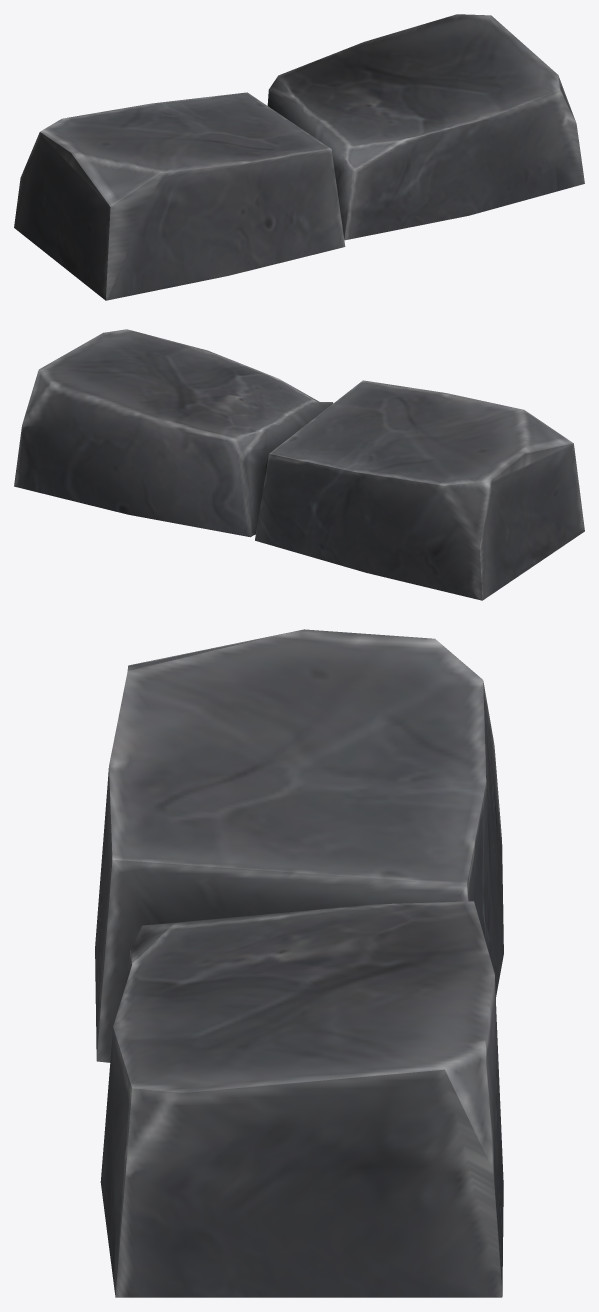
The model's file is Pavement02.FBX.
The picture shows the model from 3 angles, top to bottom: view 1: azimuth 30°, elevation 25°; view 2: azimuth 150°, elevation 25°; view 3: azimuth 270°, elevation 25°; orthographic projection. The views are drawn at different scales.
Visible parts, largest first — view 1: Pavement02; view 2: Pavement02; view 3: Pavement02.
Part boxes in pixels (box(x1,y1,x2,y2)): Pavement02: box(14, 14, 584, 300); Pavement02: box(14, 329, 584, 600); Pavement02: box(95, 629, 503, 1297).
Bounding box in the file's own units: 2.02 × 0.7545 × 0.4539.
